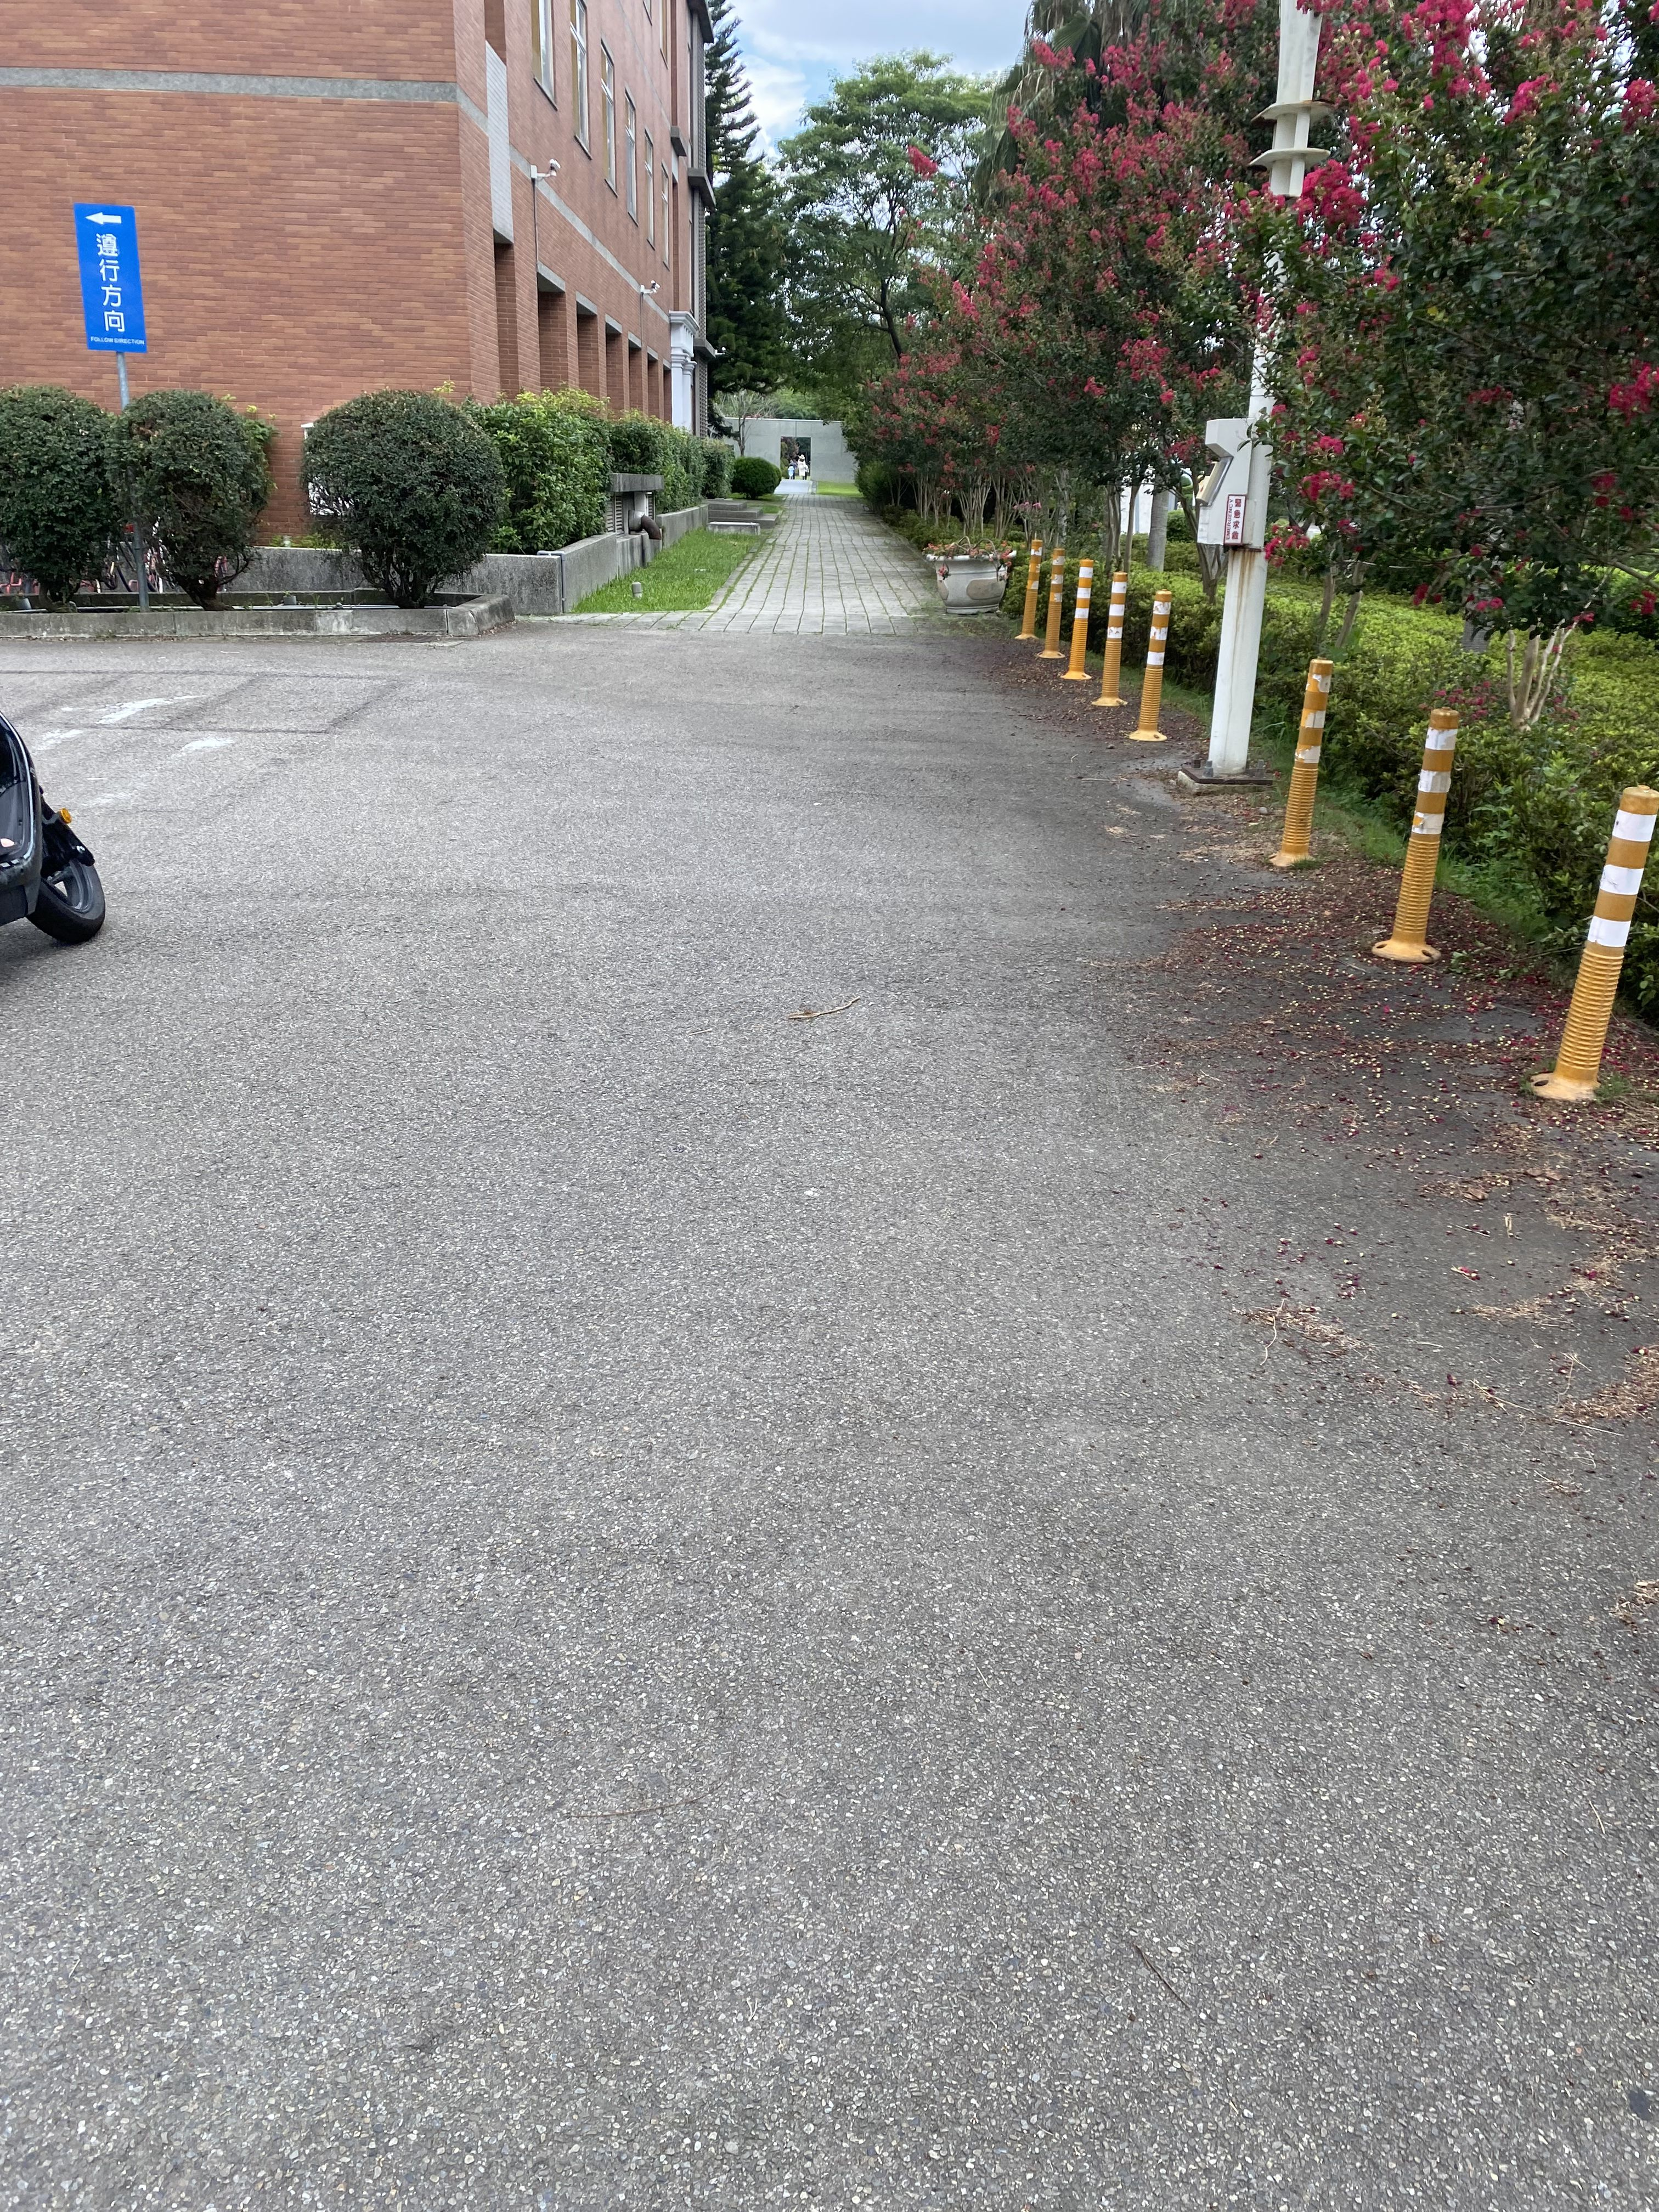0: (282, 596, 1635, 2212)
sidewalk: (711, 463, 985, 667)
